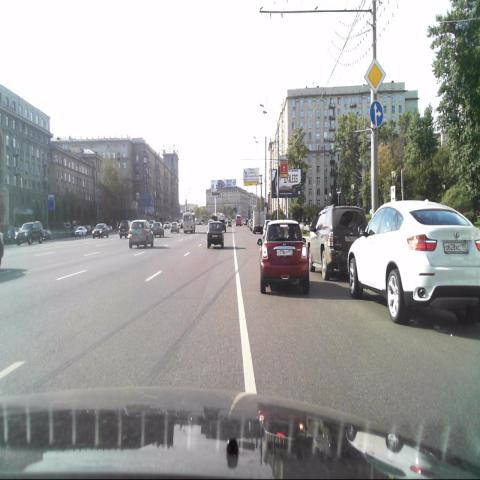2_1: (364, 58, 386, 95)
4_1_4: (370, 100, 383, 128)
